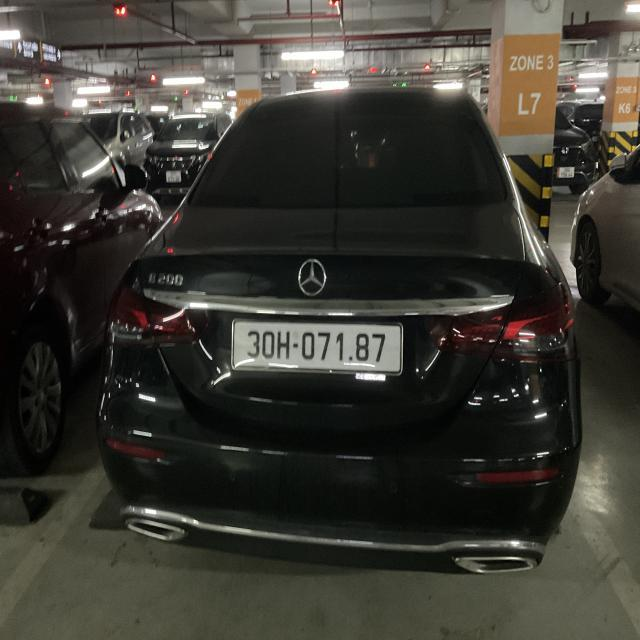license: (230, 319, 403, 375)
